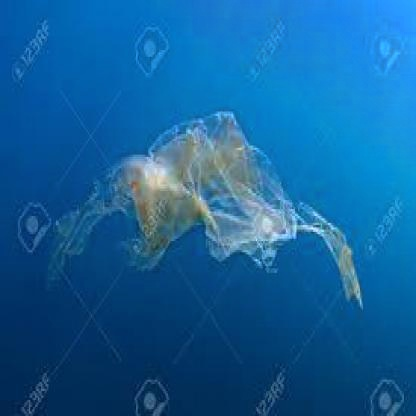pbag: (38, 107, 367, 316)
